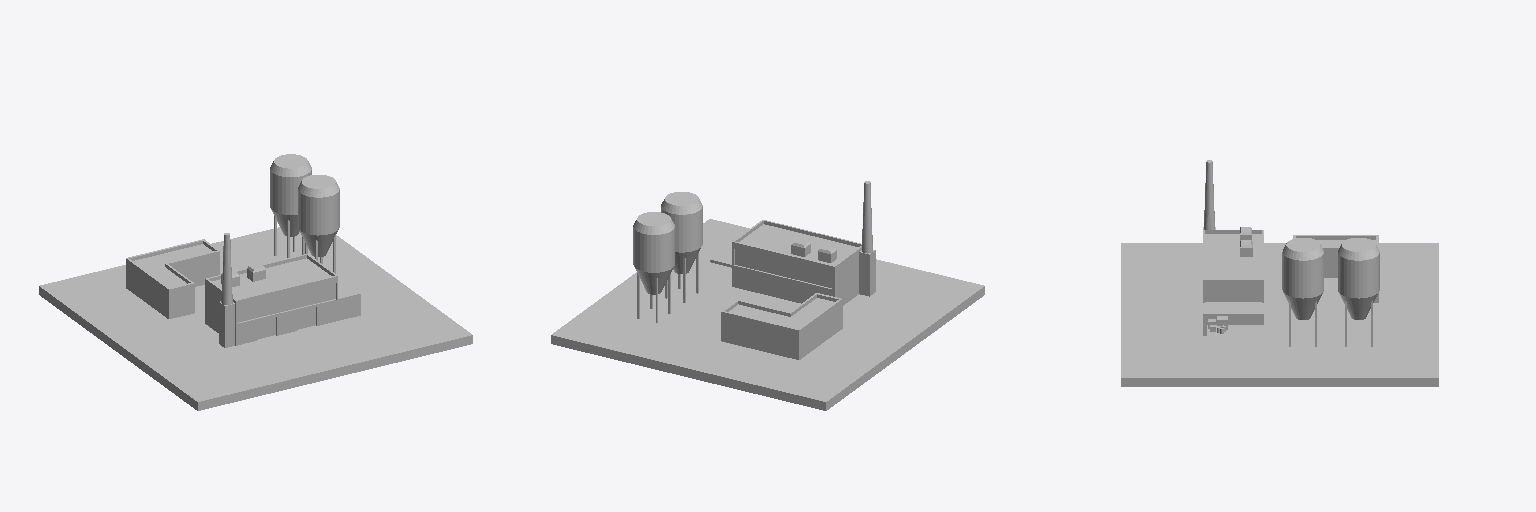
The model's file is binvox_export.obj.
The picture shows the model from 3 angles: view 1: azimuth 30°, elevation 25°; view 2: azimuth 150°, elevation 25°; view 3: azimuth 270°, elevation 25°; orthographic projection.
Visible parts, largest first — view 1: Cube.001; view 2: Cube.001; view 3: Cube.001.
Boxes of the visible parts, <box> form: Cube.001: <box>39,154,472,410</box>; Cube.001: <box>551,181,984,410</box>; Cube.001: <box>1121,160,1438,386</box>.
Bounding box in the file's own units: 64 × 28.18 × 64.